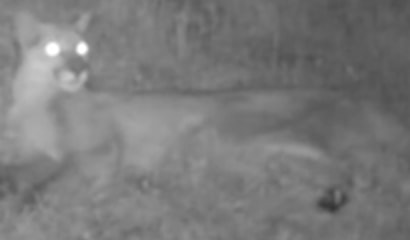Mountain Lion: (9, 6, 405, 216)
